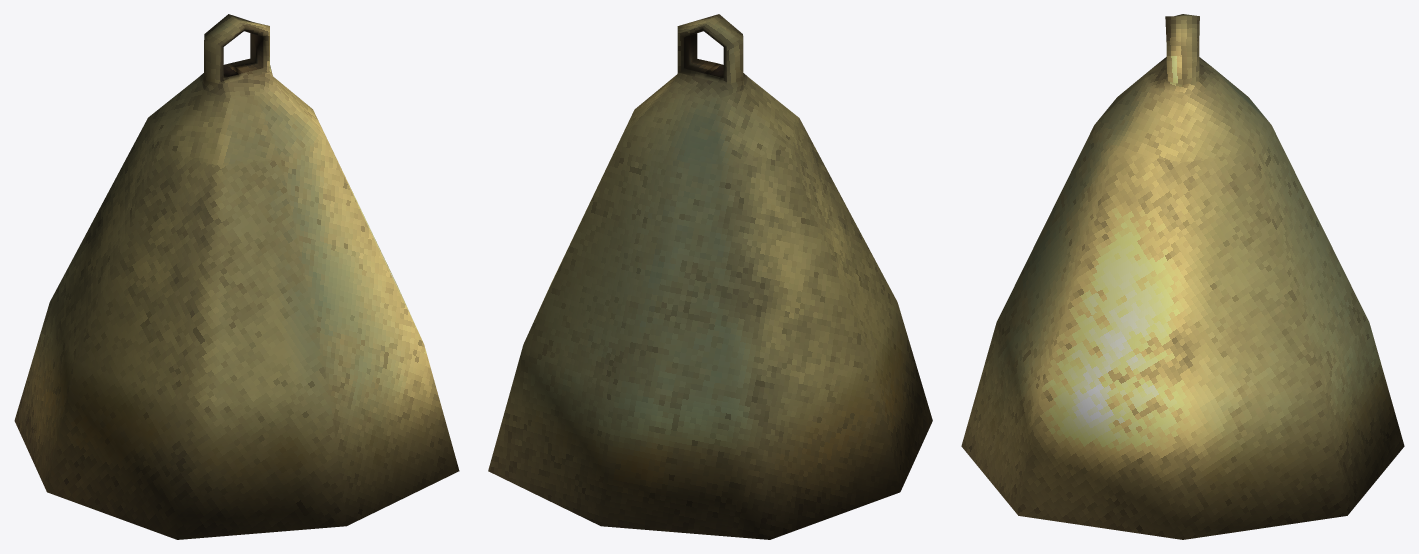
File: BigBell.glb
3 views of the same model, side by side, from view 1: azimuth 30°, elevation 25°; view 2: azimuth 150°, elevation 25°; view 3: azimuth 270°, elevation 25° (orthographic).
Visible parts, largest first — view 1: Cube; view 2: Cube; view 3: Cube.
Part boxes in pixels (x1,y1,x2,y2): Cube: (14,14,459,539); Cube: (488,14,932,539); Cube: (961,14,1404,539).
Size of the model in its own units: 7 by 7.49 by 7.
Materials: 1 (1 with a texture image).
